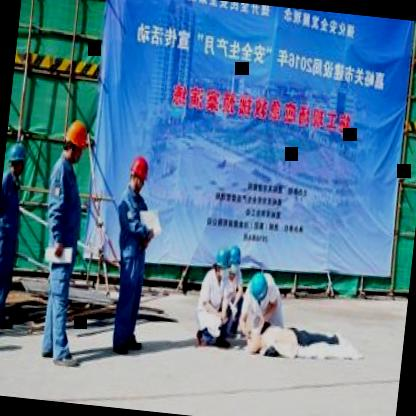helmet: (240, 265, 278, 318), (60, 116, 91, 165), (124, 153, 148, 196), (3, 138, 26, 178), (224, 240, 242, 277), (211, 245, 231, 274)
